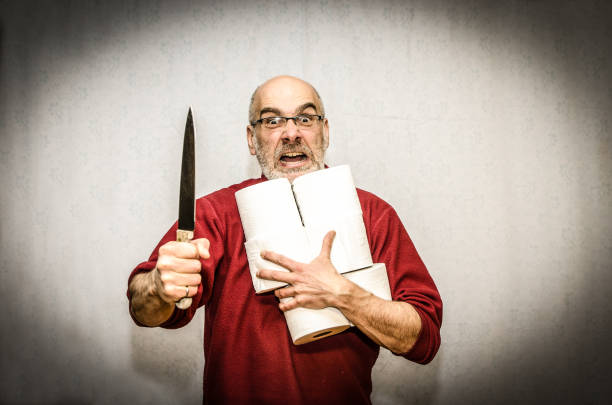knife: (175, 105, 196, 310)
